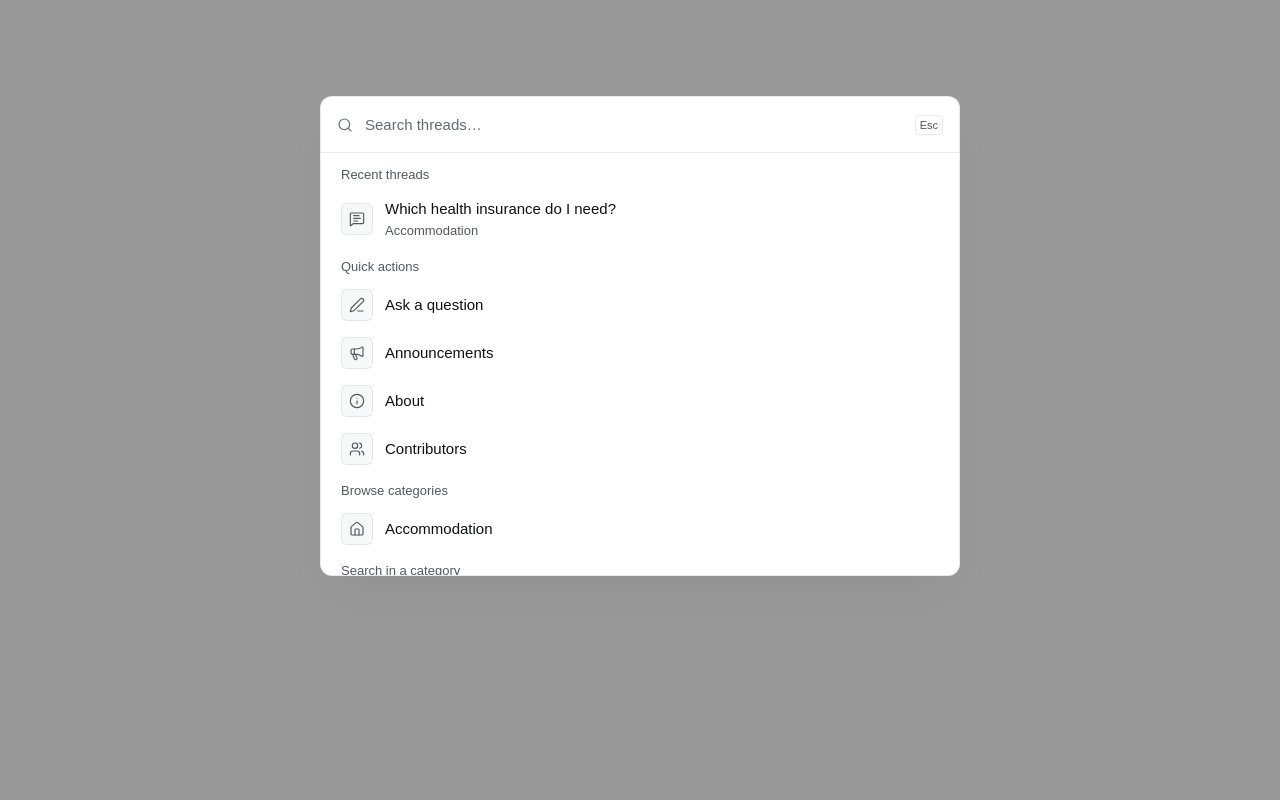
CommandPalette › highlights the match and keeps the full title as a tooltip
Type "anmel" into the dropdown labelled "Search threads" at (634, 124), box [365,97,903,152]
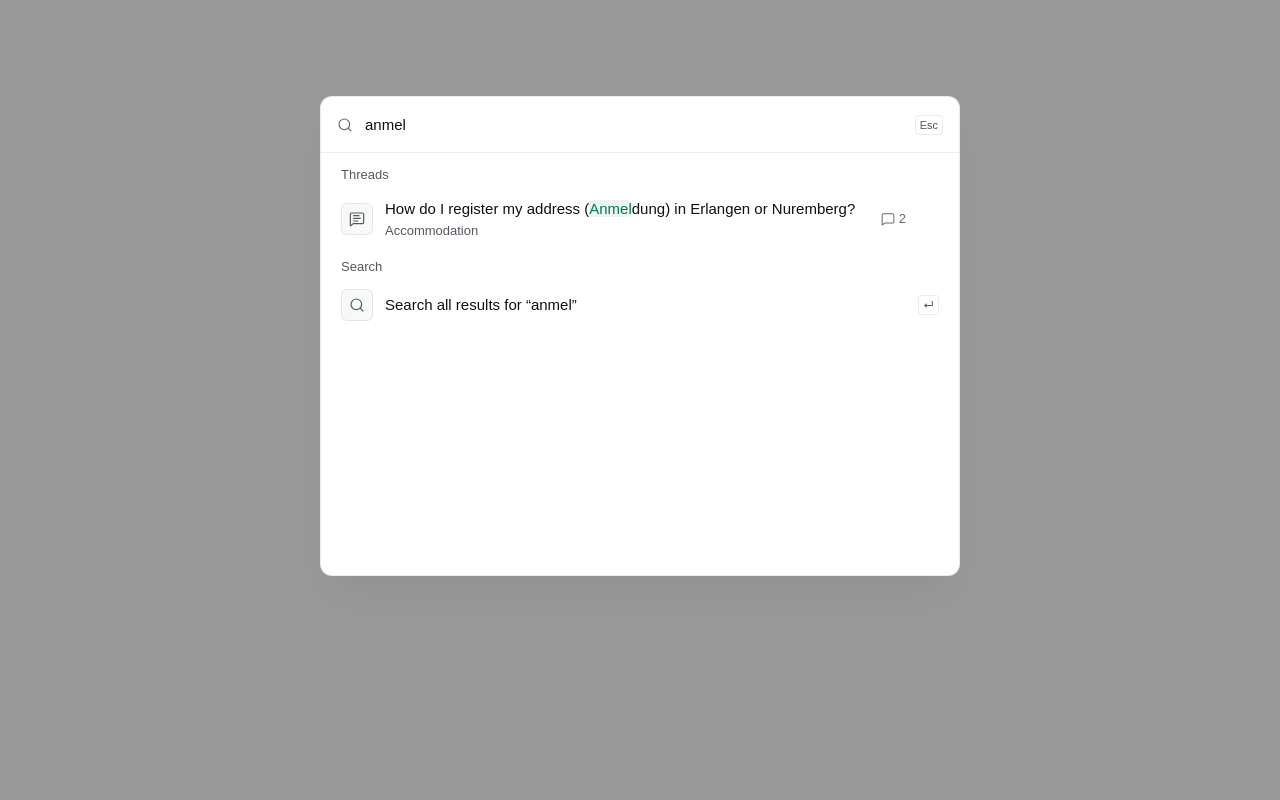
expect the text "Anmel" is shown: met, box [589,200,632,217]
expect the element titled "How do I register my address (Anmeldung) in Erlangen or Nuremberg?" is shown: met, box [385,197,869,221]
expect the option "register my address" shows "Accommodation": met, box [329,189,951,249]
